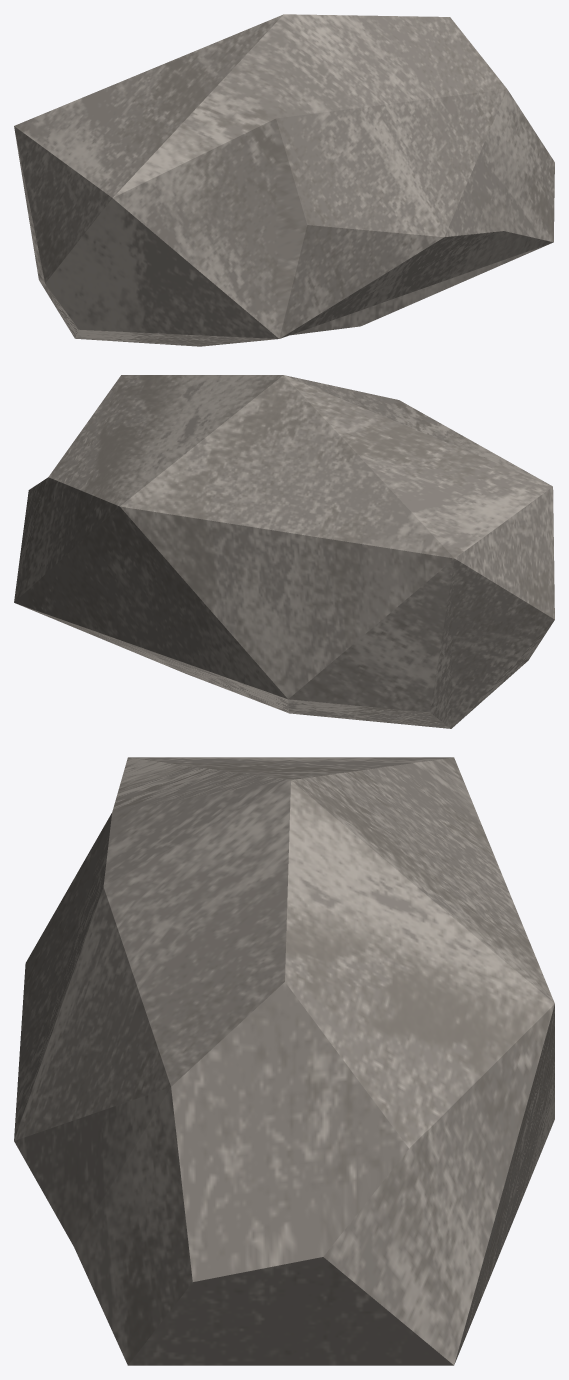
File: Piedra4.fbx
The picture shows the model from 3 angles, top to bottom: view 1: azimuth 30°, elevation 25°; view 2: azimuth 150°, elevation 25°; view 3: azimuth 270°, elevation 25°; orthographic projection. The views are drawn at different scales.
Visible parts, largest first — view 1: Piedra 4; view 2: Piedra 4; view 3: Piedra 4.
Part boxes in pixels (box(x1,y1,x2,y2)): Piedra 4: box(14, 14, 554, 346); Piedra 4: box(14, 375, 554, 728); Piedra 4: box(14, 757, 554, 1365).
Bounding box in the file's own units: 308 × 180 × 174.
